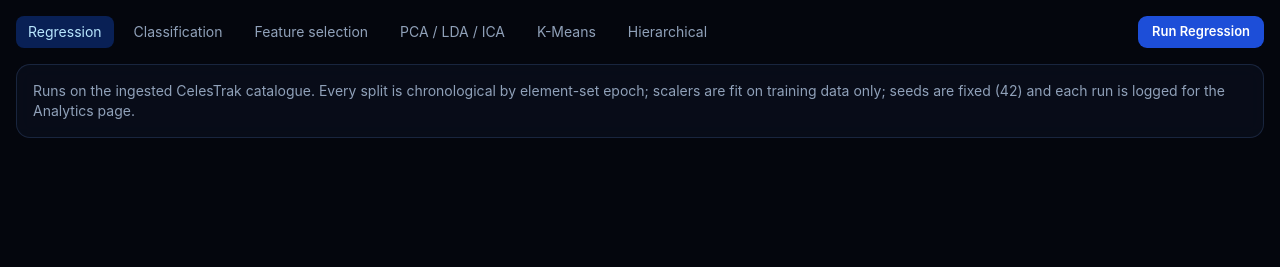
Test case: every page renders against real API payloads › ML Lab tab Hierarchical
Click the button "Hierarchical".
click(667, 32)  # box [616, 16, 719, 48]
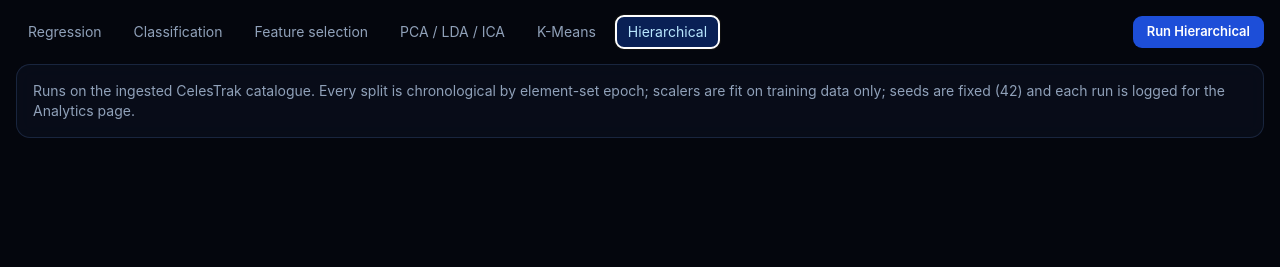
Click the button "Run Hierarchical".
click(1198, 32)  # box [1133, 16, 1264, 48]
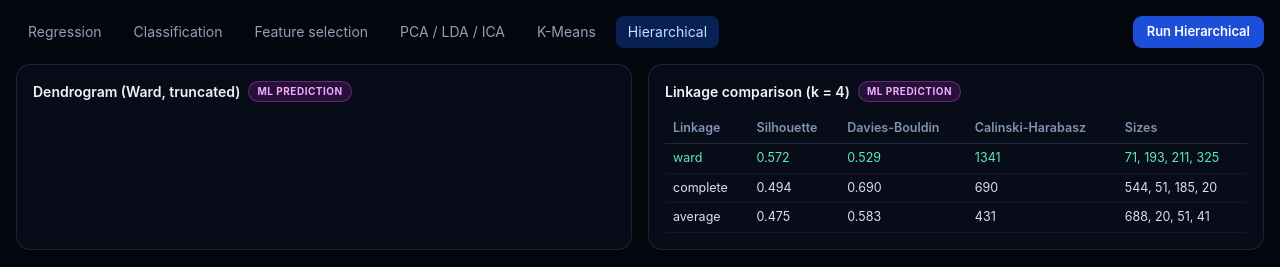
Result: the heading "Dendrogram (Ward, truncated)" is shown at [33, 82, 240, 102]
